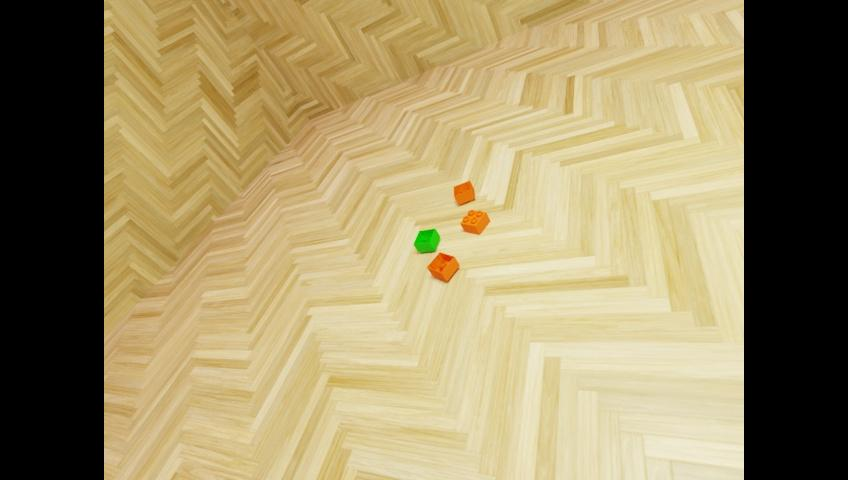2x2_green: (413, 227, 439, 252)
2x2_orange: (426, 251, 459, 281), (460, 209, 489, 234), (453, 179, 474, 204)
